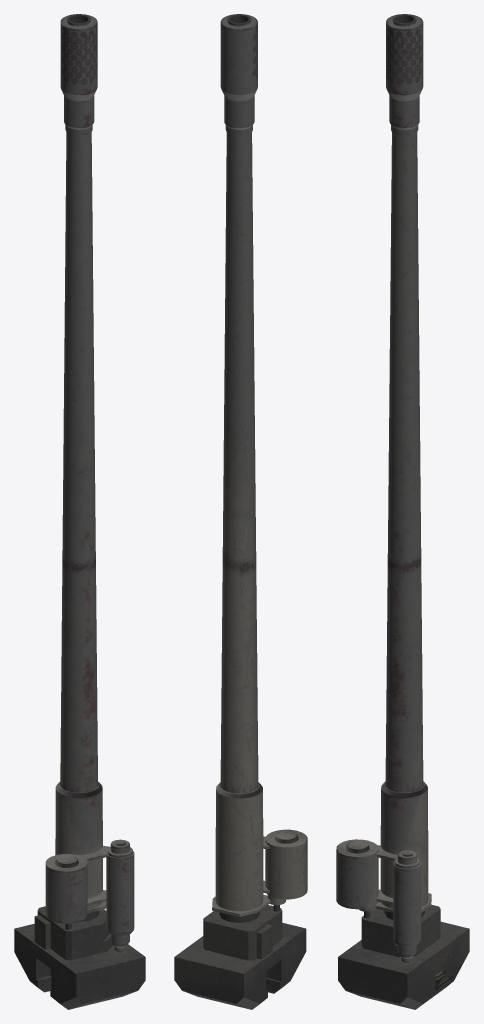
File: Gun_01.glb
3 renders of one model, left to right at view 1: azimuth 30°, elevation 25°; view 2: azimuth 150°, elevation 25°; view 3: azimuth 330°, elevation 25°, orthographic.
Visible parts, largest first — view 1: set_0_group_0; view 2: set_0_group_0; view 3: set_0_group_0.
Part boxes in pixels (x1,y1,x2,y2): set_0_group_0: [14, 14, 145, 1009]; set_0_group_0: [174, 14, 307, 1009]; set_0_group_0: [336, 14, 469, 1009].
Bounding box in the file's own units: 0.8165 × 8.09 × 0.9366.
1 material, 1 textured.
